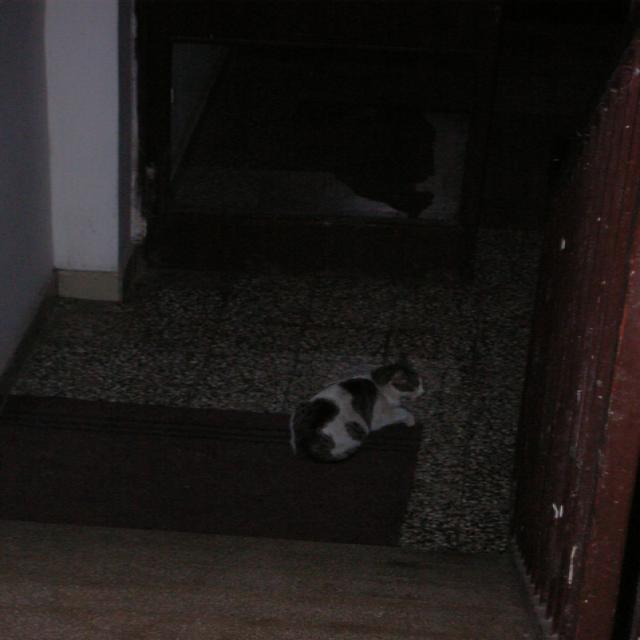Cat: (282, 358, 441, 482)
